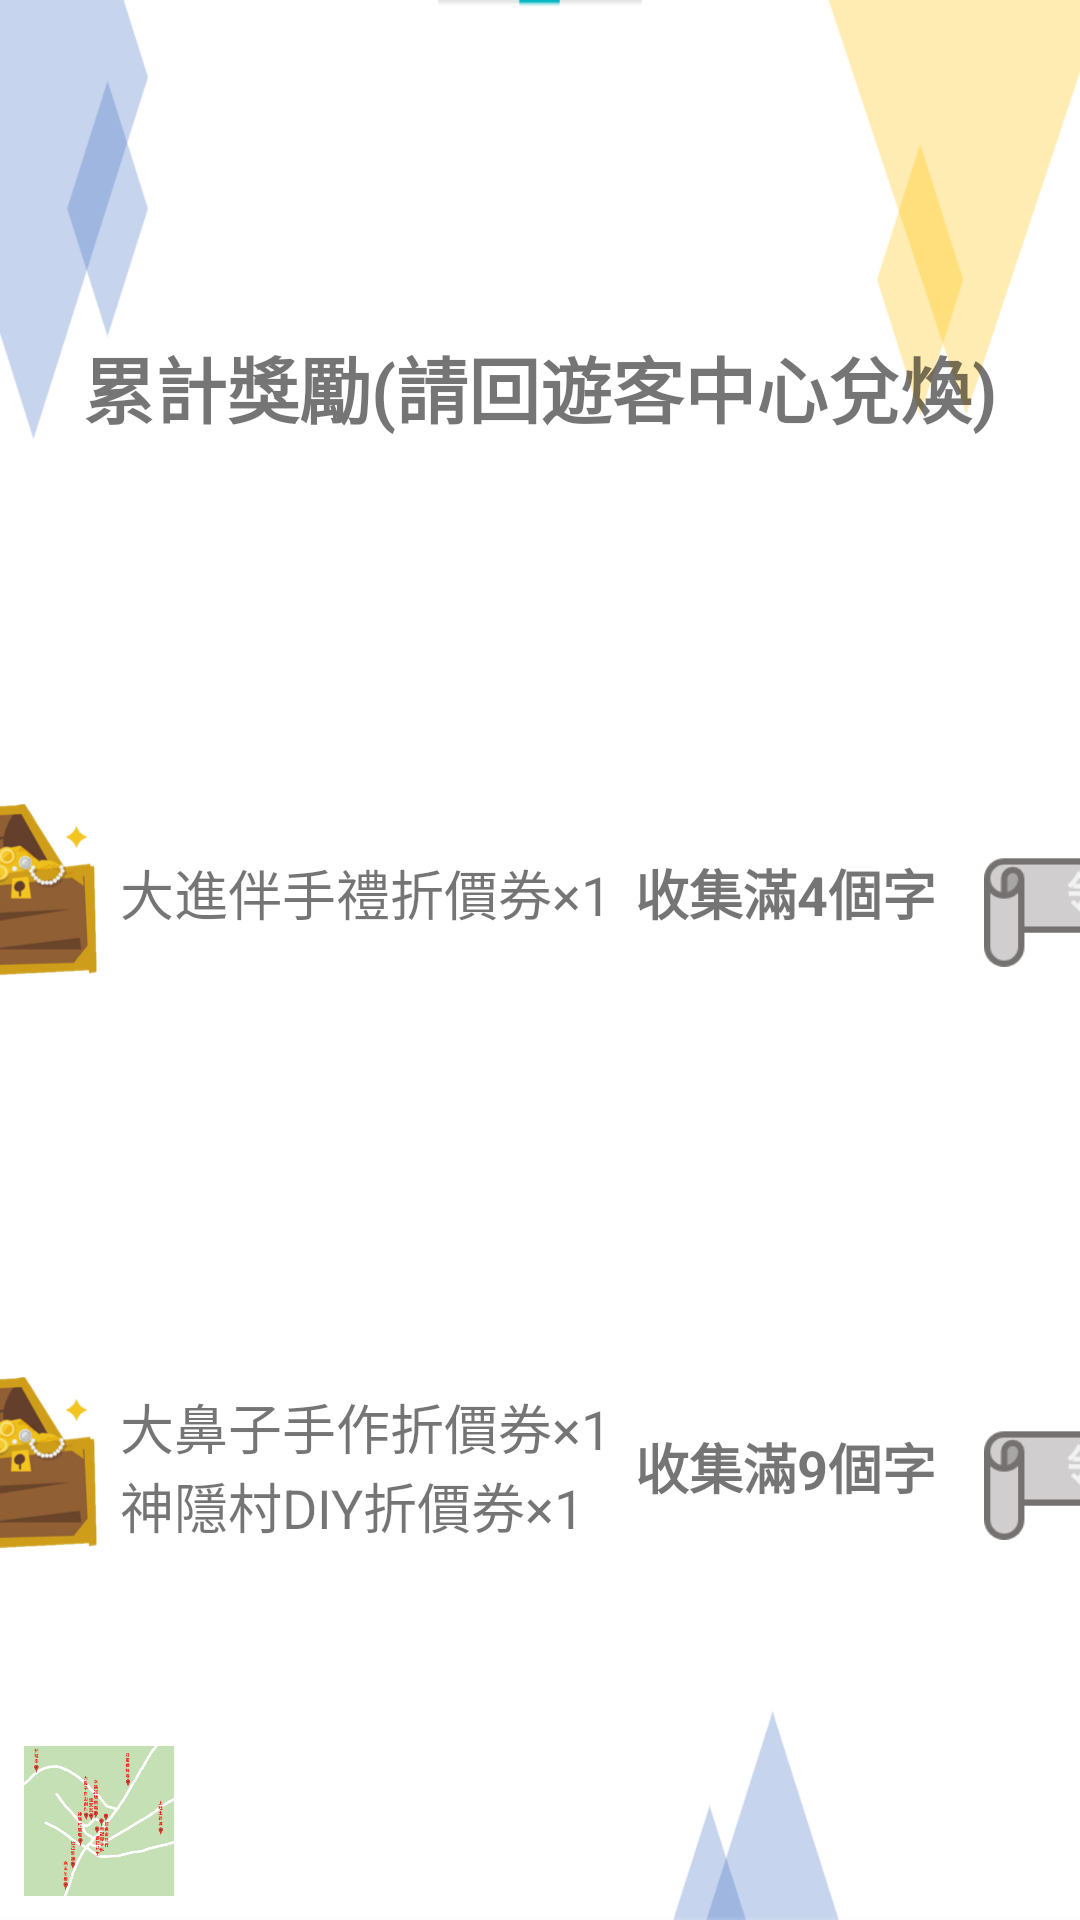

Icons on this 1080 × 1920 Android screen, each with its box as {"x1": x1, "y1": y1, "x2": x2, "y2": y2}:
map: {"x1": 24, "y1": 1746, "x2": 174, "y2": 1896}
